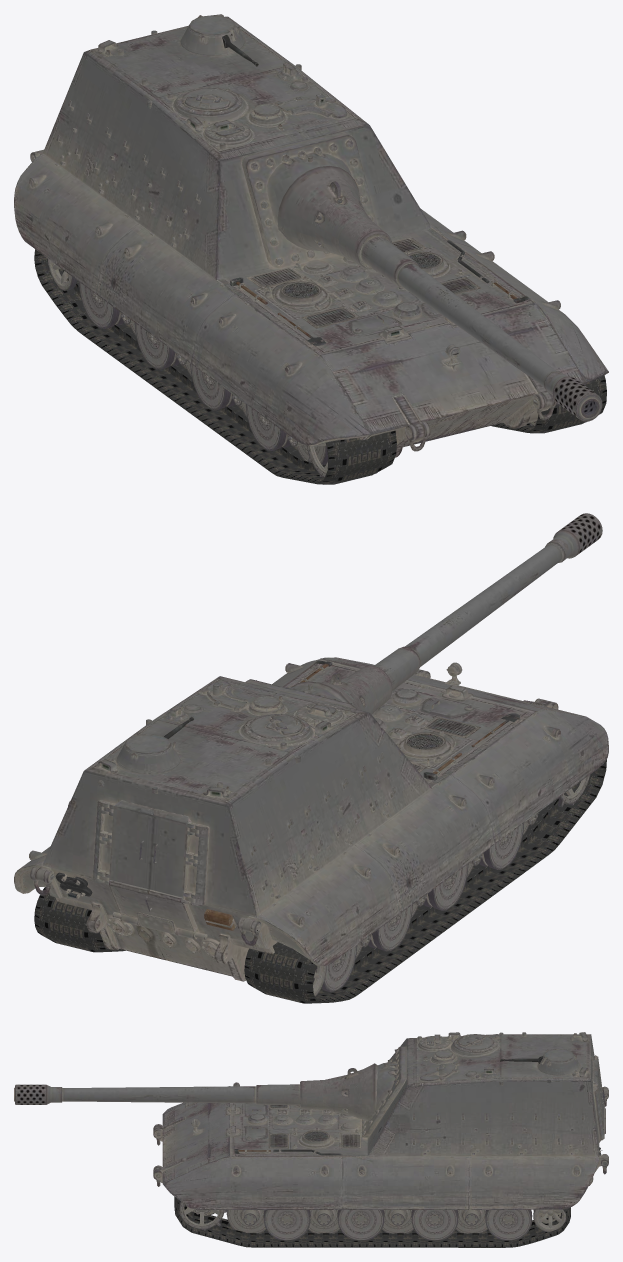
The picture shows the model from 3 angles, top to bottom: view 1: azimuth 30°, elevation 25°; view 2: azimuth 150°, elevation 25°; view 3: azimuth 270°, elevation 25°; orthographic projection. The views are drawn at different scales.
Parts seen in each view (by area): view 1: Hull, Gun, Track.001, Track, RWHEEL.005, RWHEEL.001, RWHEEL.002, RWHEEL.007; view 2: Hull, Track.001, Gun, Track, RWHEEL.005, RWHEEL.001, RWHEEL.002, RWHEEL.007; view 3: Hull, Gun, Track, LWHEEL.006, LWHEEL.003, LWHEEL.002, LWHEEL.008, LWHEEL.001, LWHEEL.004, LWHEEL.005, LWHEEL.007, LWHEEL.009 (+1 smaller).
Part boxes in pixels (left/top/right/bottom): Hull: left=14, top=14, right=608, bottom=457; Gun: left=277, top=166, right=602, bottom=421; Track.001: left=34, top=249, right=396, bottom=484; Track: left=491, top=375, right=606, bottom=433; RWHEEL.005: left=134, top=323, right=179, bottom=369; RWHEEL.001: left=190, top=363, right=234, bottom=410; RWHEEL.002: left=246, top=404, right=290, bottom=450; RWHEEL.007: left=79, top=282, right=123, bottom=328; Hull: left=14, top=657, right=608, bottom=981; Track.001: left=244, top=759, right=606, bottom=1003; Gun: left=291, top=513, right=602, bottom=714; Track: left=34, top=887, right=125, bottom=952; RWHEEL.005: left=368, top=904, right=412, bottom=951; RWHEEL.001: left=424, top=864, right=468, bottom=910; RWHEEL.002: left=479, top=823, right=523, bottom=869; RWHEEL.007: left=313, top=945, right=357, bottom=992; Hull: left=153, top=1032, right=608, bottom=1209; Gun: left=14, top=1063, right=378, bottom=1121; Track: left=174, top=1197, right=570, bottom=1247; LWHEEL.006: left=411, top=1210, right=458, bottom=1240; LWHEEL.003: left=337, top=1210, right=384, bottom=1240; LWHEEL.002: left=263, top=1210, right=310, bottom=1240; LWHEEL.008: left=485, top=1209, right=532, bottom=1240; LWHEEL.001: left=226, top=1210, right=266, bottom=1233; LWHEEL.004: left=308, top=1210, right=339, bottom=1233; LWHEEL.005: left=382, top=1210, right=413, bottom=1233; LWHEEL.007: left=456, top=1210, right=487, bottom=1233; LWHEEL.009: left=533, top=1209, right=566, bottom=1232.
Size of the model in its own units: 4.48 by 3.4 by 11.42.
Materials: 4 (4 with a texture image).
